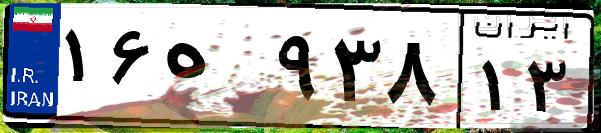1: (57, 26, 110, 100), (475, 38, 525, 113)
3: (330, 28, 385, 110), (525, 38, 570, 115)
6: (110, 28, 158, 98)
8: (385, 28, 445, 110)
9: (270, 28, 330, 110)
ه: (158, 20, 270, 120)
